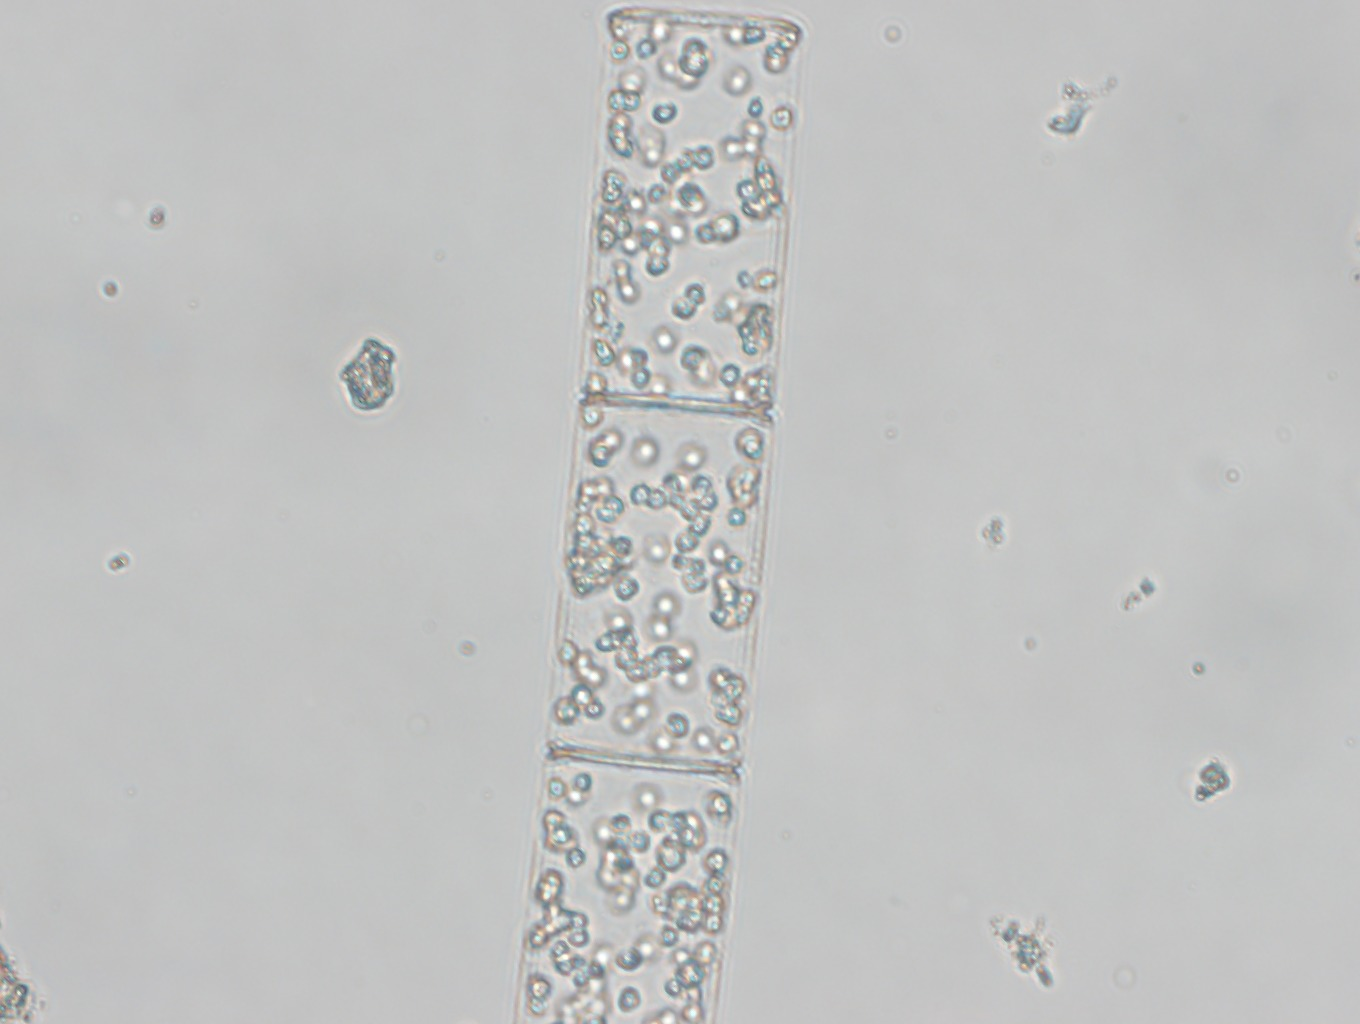guinardia flaccida: (509, 2, 817, 1024)
